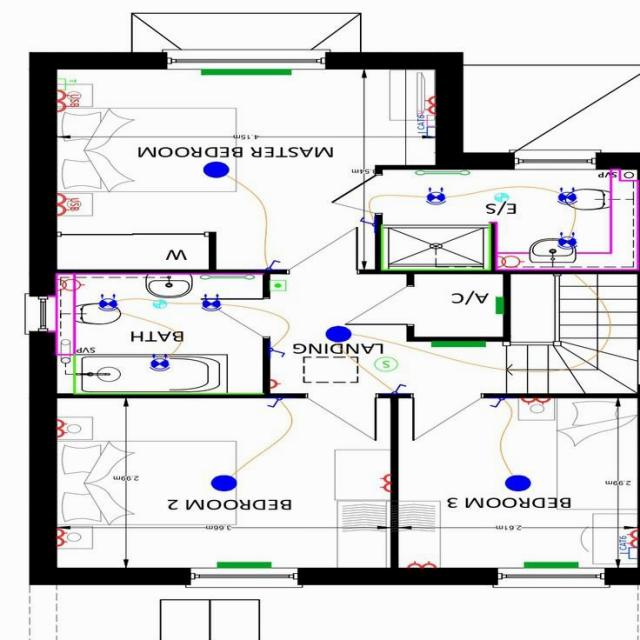Cat 6 Data Socket: (616, 550, 637, 562), (416, 128, 436, 138)
Ceiling Mounted Continuous Extract Fan With Boost Mode Activated By Light Switch: (484, 187, 516, 209), (144, 297, 176, 316)
Double Socket: (516, 396, 556, 411), (54, 416, 71, 448), (378, 469, 393, 502), (403, 560, 440, 573), (619, 524, 639, 548), (416, 93, 436, 117), (56, 524, 70, 552)
Full Height Tiling: (64, 352, 263, 398), (375, 222, 491, 276)
Light Switch: (352, 210, 376, 233), (383, 381, 414, 395), (258, 257, 284, 273), (484, 398, 509, 414), (270, 345, 291, 358), (267, 398, 287, 410)
Low Energy Downlighter: (143, 350, 179, 376), (552, 183, 584, 210), (94, 292, 122, 318), (554, 232, 583, 256), (424, 186, 452, 210), (199, 293, 225, 315)
Low Energy Pendant Light: (322, 319, 358, 348), (500, 475, 537, 500), (199, 159, 235, 184), (208, 473, 239, 497)
Mains Wired Smoke Detector: (368, 352, 402, 378)
Programmable Room Thermostat: (266, 277, 291, 296)
Radiator: (189, 69, 298, 81), (514, 560, 584, 574), (211, 558, 276, 572), (426, 342, 492, 352), (490, 292, 504, 318)
Shaver Socket: (53, 276, 85, 296), (495, 253, 525, 270)
Single Socket: (267, 375, 285, 393)
TV - Satellite Multisocket: (417, 115, 435, 128)
USB Double Socket: (56, 85, 84, 118), (55, 190, 82, 221)
